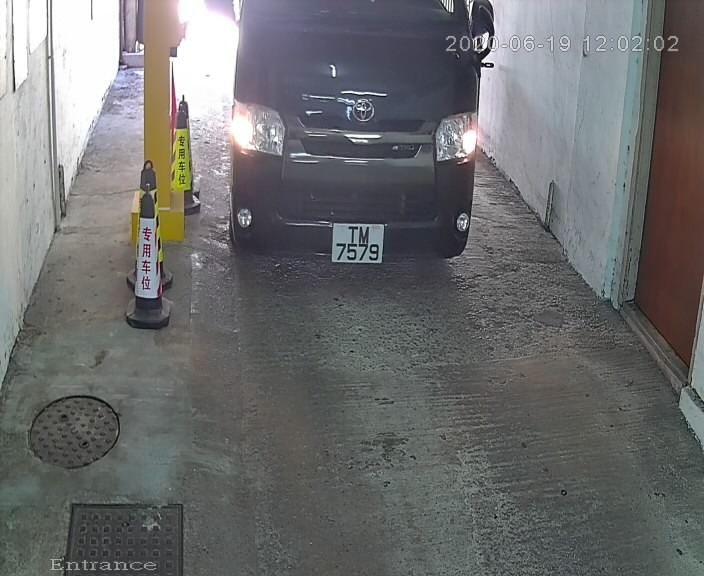privatecar: (227, 3, 497, 288)
